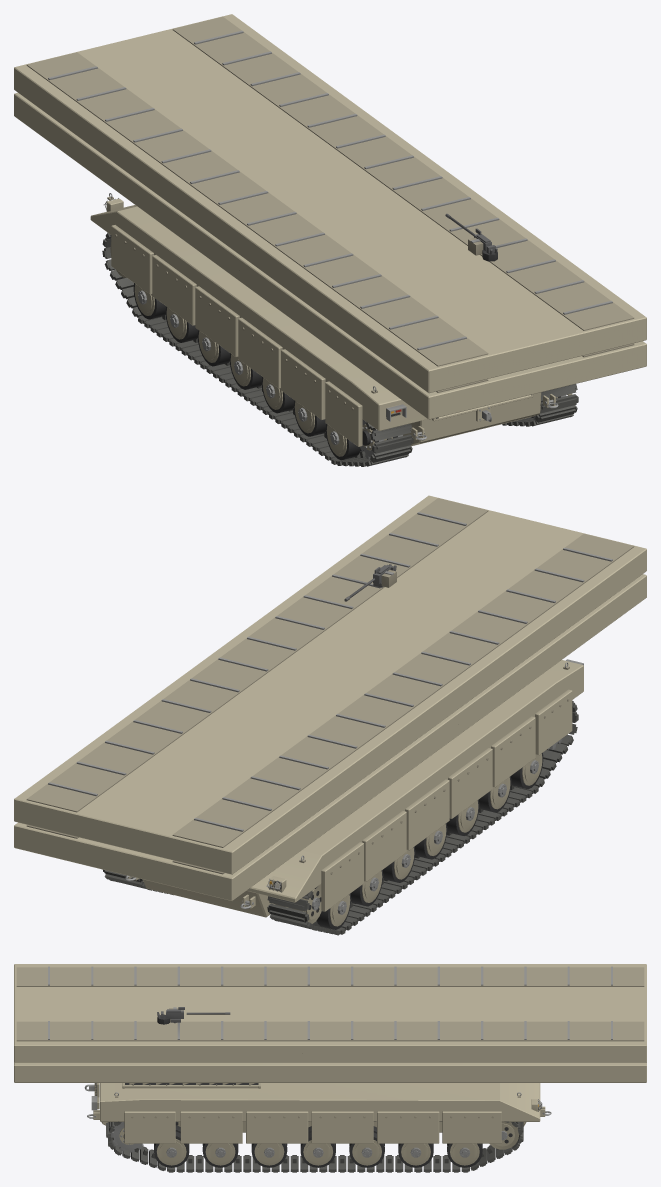
Rendered from rus_eng_mtu.glb.
3 views of the same model, one above another, from view 1: azimuth 30°, elevation 25°; view 2: azimuth 150°, elevation 25°; view 3: azimuth 270°, elevation 25° (orthographic). The views are drawn at different scales.
Visible parts, largest first — view 1: body; view 2: body; view 3: body, barrel.
Boxes of the visible parts, x1=… form: body: x1=14, y1=14, x2=646, y2=466; body: x1=14, y1=495, x2=646, y2=935; body: x1=14, y1=964, x2=646, y2=1172; barrel: x1=157, y1=1007, x2=230, y2=1023.
Size of the model in its own units: 3.47 by 2.91 by 11.4.
